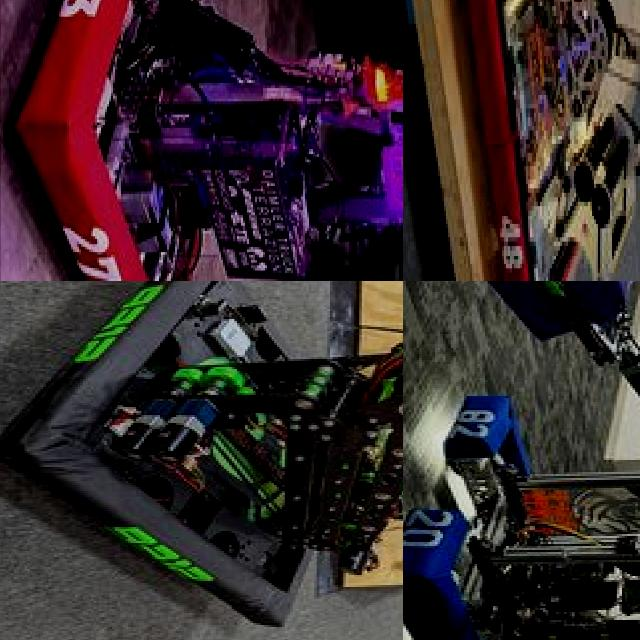FRC-Robots: (0, 281, 403, 640), (16, 0, 403, 281), (403, 281, 640, 640), (438, 0, 640, 281)
